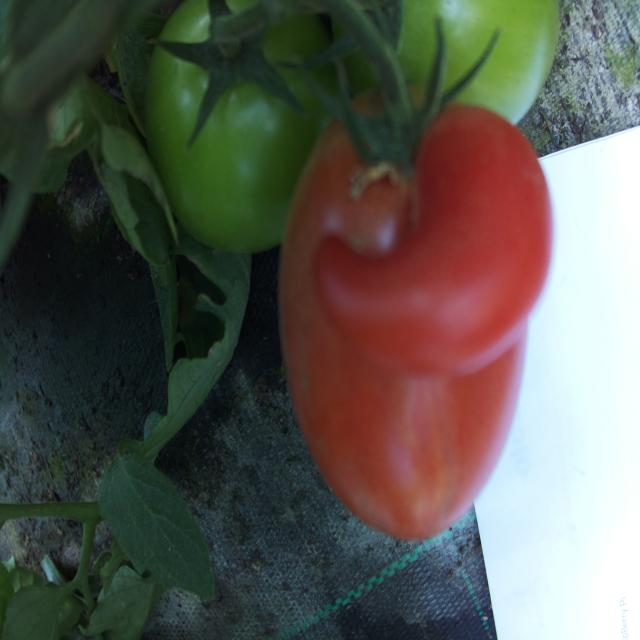kirmizi: (273, 82, 544, 554)
